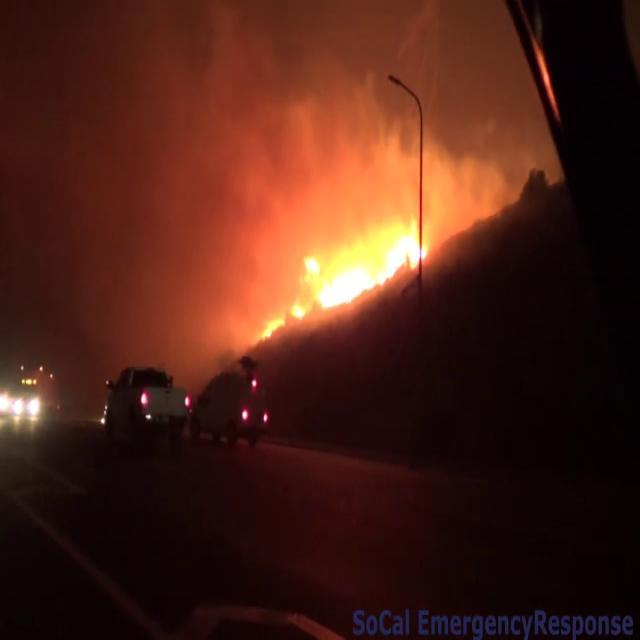Fire: (276, 185, 440, 322)
Smoke: (21, 0, 516, 295)
